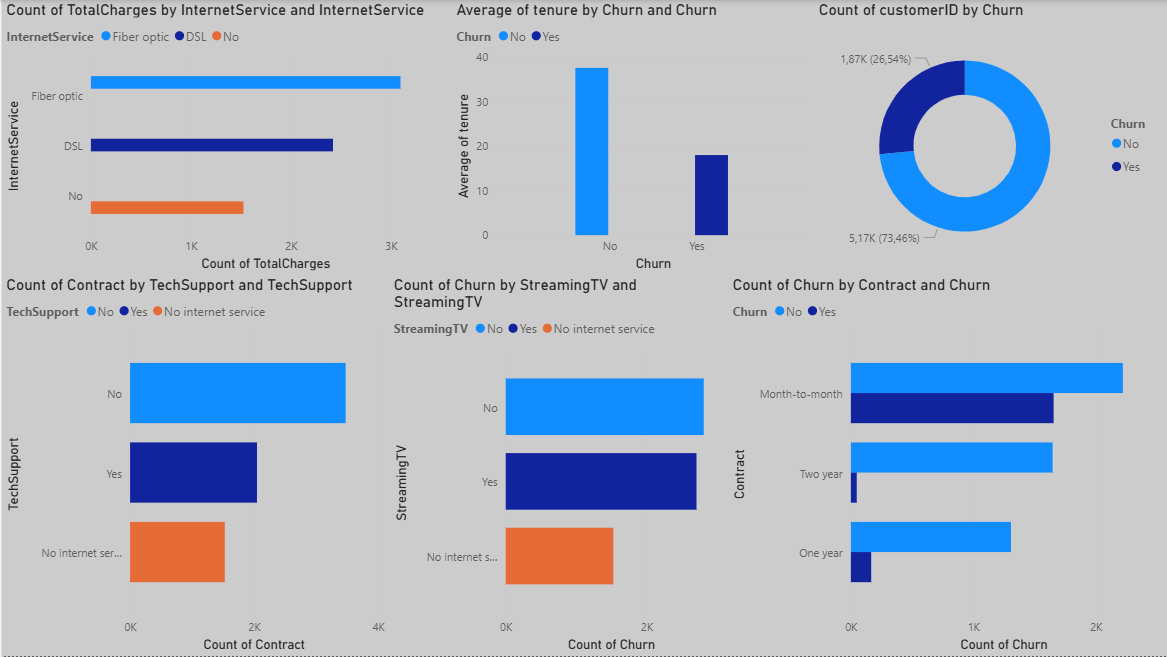

This screenshot's page, from the dashboard's own definition file:
{"tool":"powerbi","page":{"name":"Page 1","canvas":[1280,720],"ordinal":0},"visuals":[{"type":"clusteredBarChart","fields":{"Category":["WA_Fn-UseC_-Telco-Customer-Chur (2).InternetService"],"Series":["WA_Fn-UseC_-Telco-Customer-Chur (2).InternetService"],"Y":["CountNonNull(WA_Fn-UseC_-Telco-Customer-Chur (2).TotalCharges)"]},"box":[0,0,494,301.9],"z":0},{"type":"barChart","fields":{"Category":["WA_Fn-UseC_-Telco-Customer-Chur (2).TechSupport"],"Series":["WA_Fn-UseC_-Telco-Customer-Chur (2).TechSupport"],"Y":["CountNonNull(WA_Fn-UseC_-Telco-Customer-Chur (2).Contract)"]},"box":[0,301.9,425.4,418.5],"z":1000},{"type":"barChart","fields":{"Category":["WA_Fn-UseC_-Telco-Customer-Chur (2).StreamingTV"],"Series":["WA_Fn-UseC_-Telco-Customer-Chur (2).StreamingTV"],"Y":["CountNonNull(WA_Fn-UseC_-Telco-Customer-Chur (2).Churn)"]},"box":[425.4,301.9,371.9,418.5],"z":2000},{"type":"donutChart","fields":{"Category":["WA_Fn-UseC_-Telco-Customer-Chur.Churn"],"Y":["CountNonNull(WA_Fn-UseC_-Telco-Customer-Chur.customerID)"]},"box":[891.9,0,388.3,301.9],"z":2001},{"type":"clusteredBarChart","fields":{"Category":["WA_Fn-UseC_-Telco-Customer-Chur.Contract"],"Series":["WA_Fn-UseC_-Telco-Customer-Chur.Churn"],"Y":["CountNonNull(WA_Fn-UseC_-Telco-Customer-Chur.Churn)"]},"box":[797.3,301.9,483,418.5],"z":2002},{"type":"clusteredColumnChart","fields":{"Category":["WA_Fn-UseC_-Telco-Customer-Chur.Churn"],"Series":["WA_Fn-UseC_-Telco-Customer-Chur.Churn"],"Y":["Avg(WA_Fn-UseC_-Telco-Customer-Chur.tenure)"]},"box":[494,0,397.9,301.9],"z":2003}]}

Visuals, with their boxes in screenshot pixels (x1, y1, x2, y2), scaled from the page's 1280x720 canvas onto the 1167x657 screenshot:
clusteredBarChart - WA_Fn-UseC_-Telco-Customer-Chur (2).InternetService x WA_Fn-UseC_-Telco-Customer-Chur (2).InternetService: 0 0 450 275
barChart - WA_Fn-UseC_-Telco-Customer-Chur (2).TechSupport x WA_Fn-UseC_-Telco-Customer-Chur (2).TechSupport: 0 275 388 656
barChart - WA_Fn-UseC_-Telco-Customer-Chur (2).StreamingTV x WA_Fn-UseC_-Telco-Customer-Chur (2).StreamingTV: 388 275 727 656
donutChart - WA_Fn-UseC_-Telco-Customer-Chur.Churn x CountNonNull(WA_Fn-UseC_-Telco-Customer-Chur.customerID): 813 0 1166 275
clusteredBarChart - WA_Fn-UseC_-Telco-Customer-Chur.Contract x WA_Fn-UseC_-Telco-Customer-Chur.Churn: 727 275 1166 656
clusteredColumnChart - WA_Fn-UseC_-Telco-Customer-Chur.Churn x WA_Fn-UseC_-Telco-Customer-Chur.Churn: 450 0 813 275
